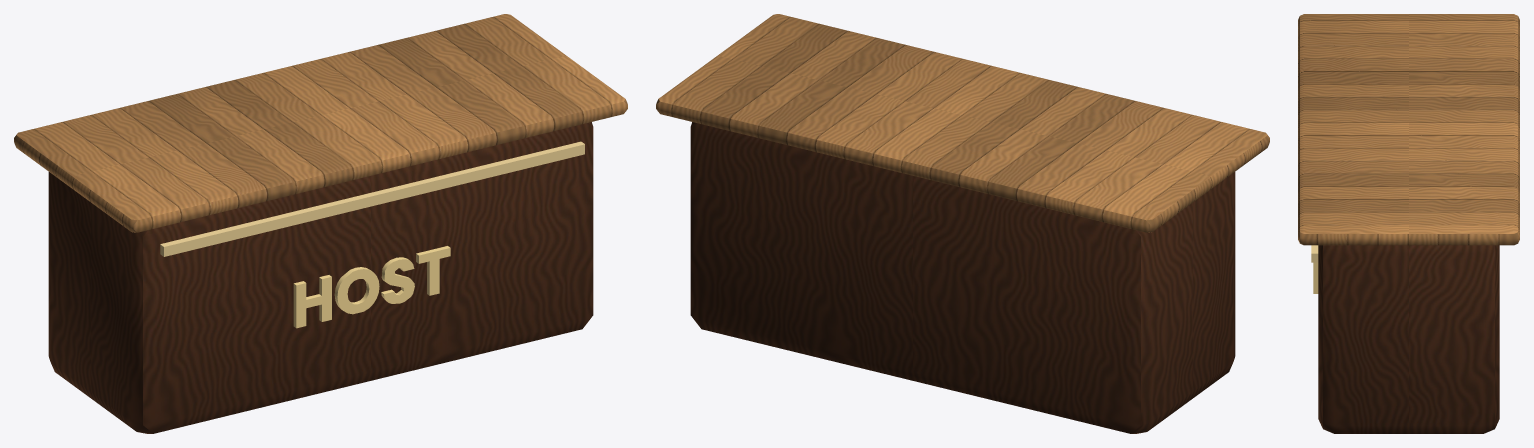
Rendered from kr_host.glb.
The picture shows the model from 3 angles, left to right: view 1: azimuth 30°, elevation 25°; view 2: azimuth 150°, elevation 25°; view 3: azimuth 270°, elevation 25°; orthographic projection. The views are drawn at different scales.
Visible parts, largest first — view 1: kr_host_darkwood, kr_host_butcher, vc_m8_r2; view 2: kr_host_darkwood, kr_host_butcher; view 3: kr_host_butcher, kr_host_darkwood, vc_m8_r2.
Part boxes in pixels (box(x1,y1,x2,y2)): kr_host_darkwood: box(48, 122, 593, 433); kr_host_butcher: box(14, 14, 627, 232); vc_m8_r2: box(160, 141, 584, 328); kr_host_darkwood: box(690, 122, 1235, 433); kr_host_butcher: box(656, 14, 1269, 232); kr_host_butcher: box(1298, 14, 1519, 245); kr_host_darkwood: box(1318, 245, 1499, 433); vc_m8_r2: box(1311, 245, 1318, 293).
Size of the model in its own units: 2.6 by 1.18 by 1.1.
3 materials, 2 textured.
